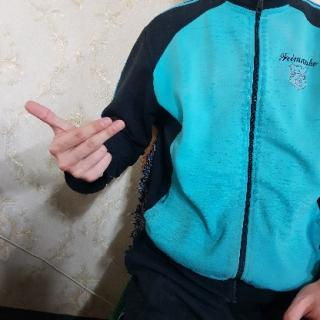GHAYN: (22, 96, 127, 185)
